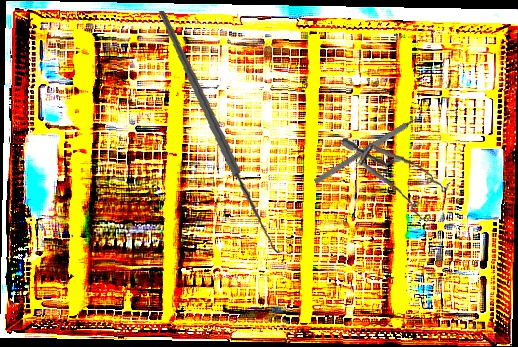Hook Surgical: (138, 10, 311, 255), (313, 109, 430, 185)
Speculum: (332, 137, 455, 225)
